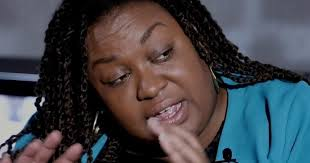black_female: (48, 2, 255, 153)
